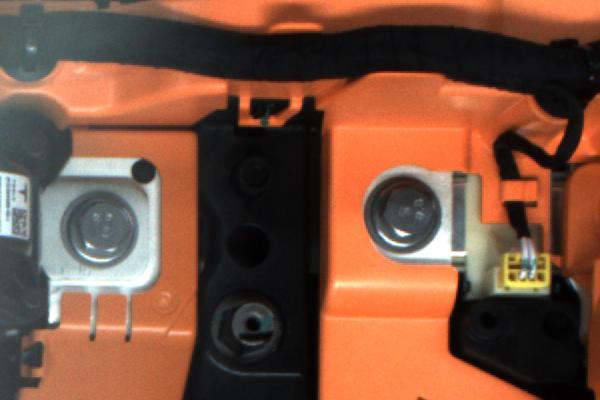nut_b: (56, 187, 150, 269), (367, 173, 448, 257)
